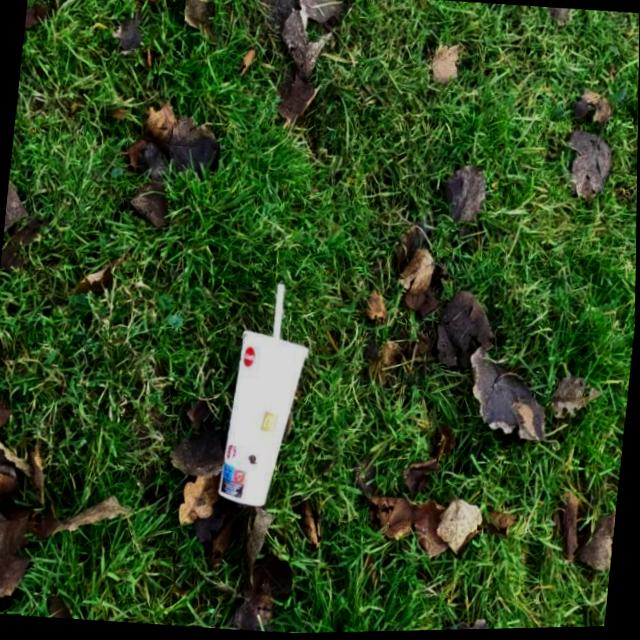Cup: (215, 326, 313, 515)
